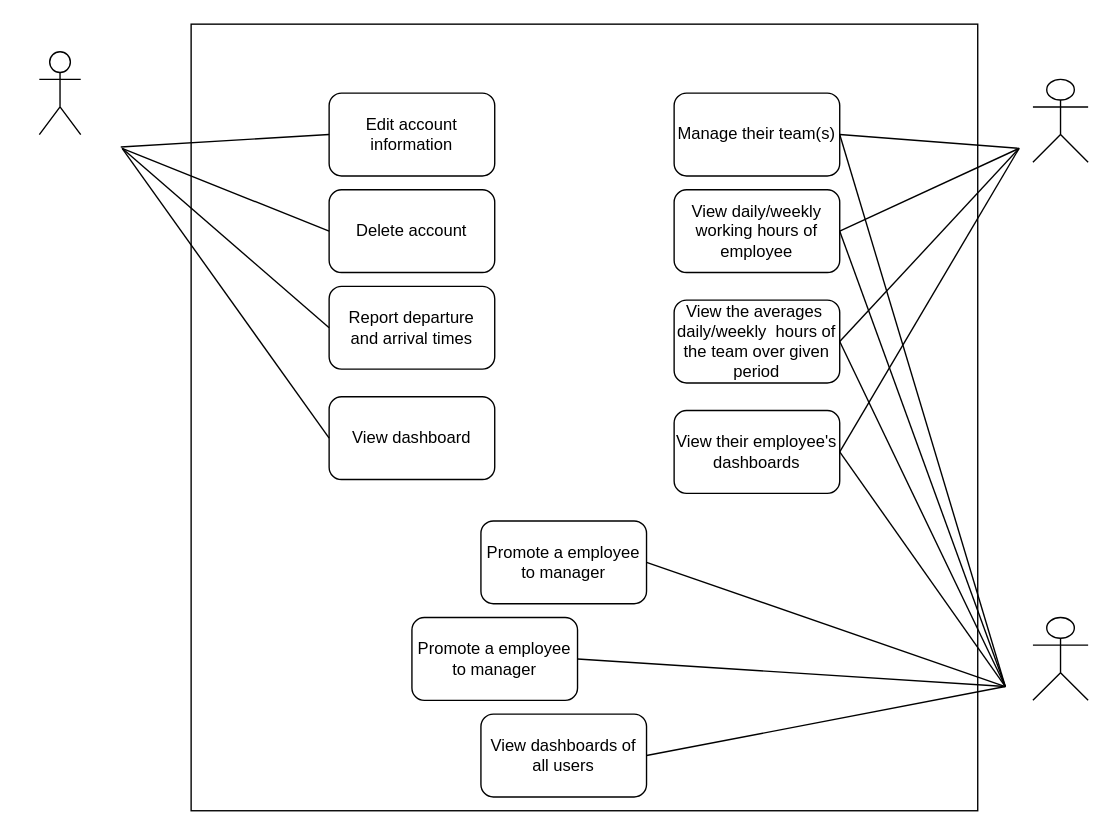
This 1116x835 diagram has some shape labels left out. The shapes that lost their labels are listed below. From the top down, each one's centre as x and y in pixels, then its label:
At (59,92): "Employee".
At (1060,120): "Manager".
At (1060,658): "General Manager".
